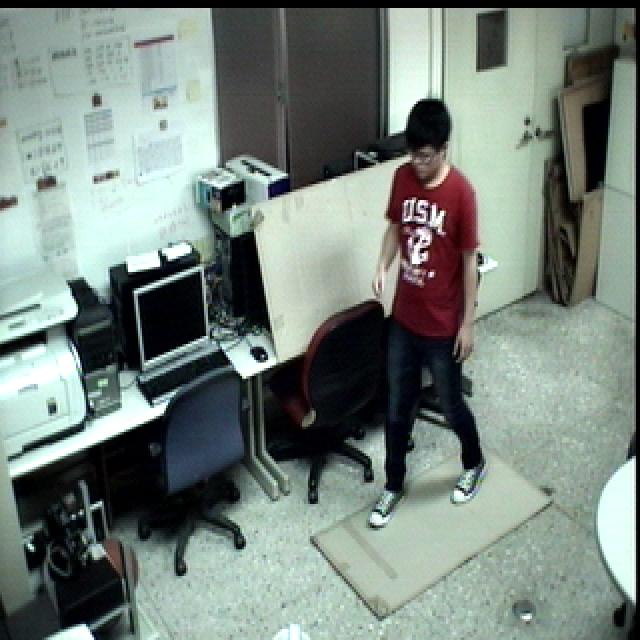stand: (362, 92, 491, 532)
